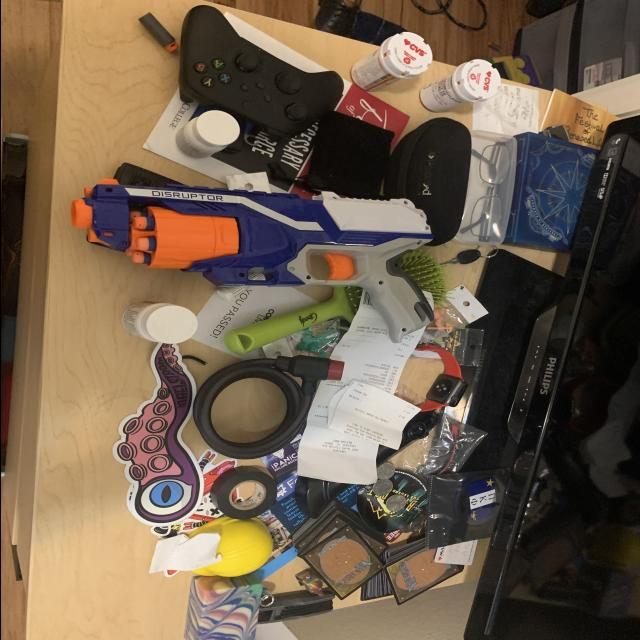nerf-maverik: (66, 172, 462, 350)
